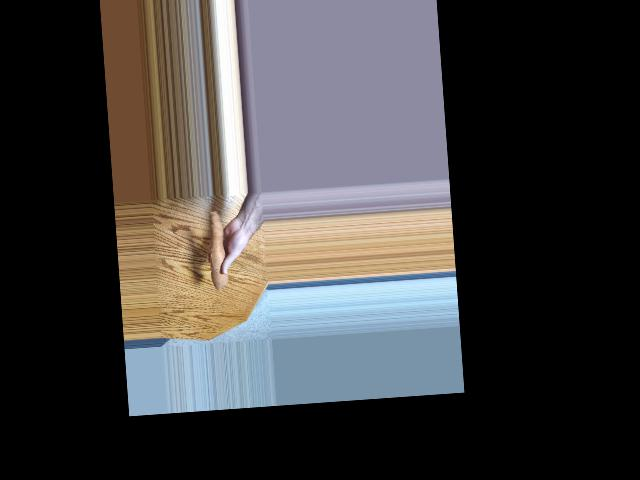sweet_potato: (204, 210, 231, 286)
